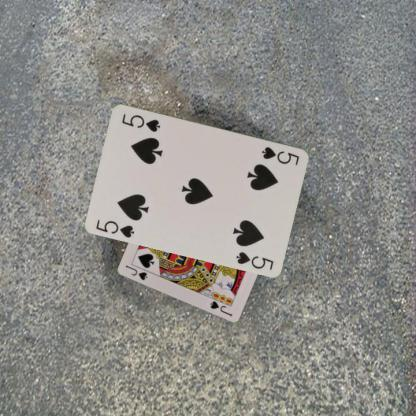5s: (94, 217, 136, 240), (259, 144, 301, 166)
Js: (122, 262, 148, 282)
